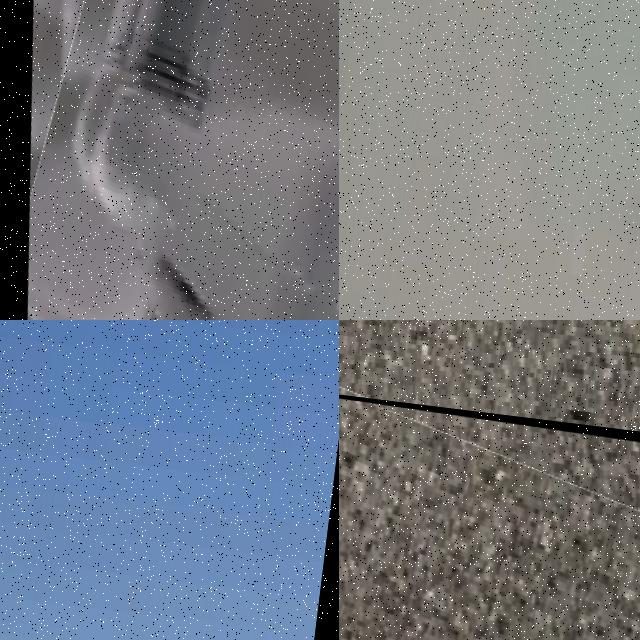drone: (0, 0, 339, 320), (339, 374, 640, 640)
